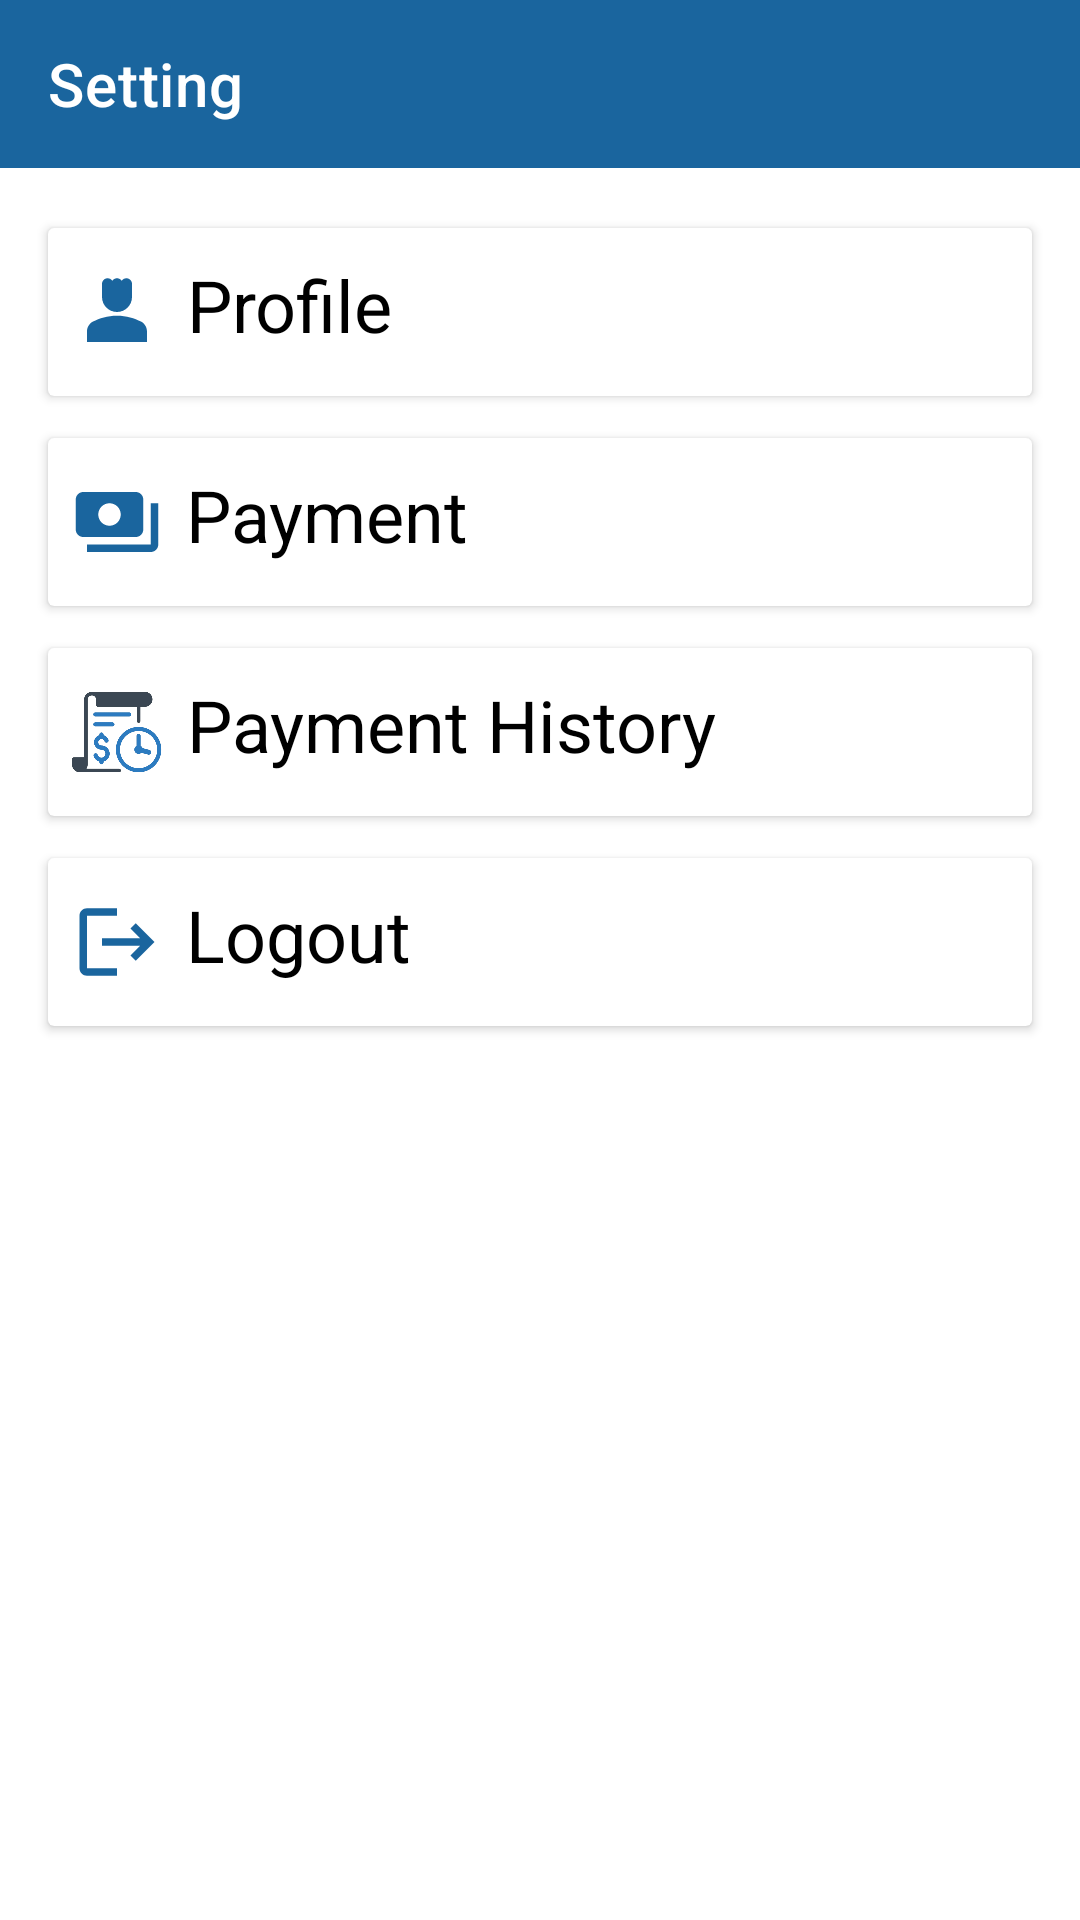

Named icons in this screenshot (1080px x 1920px) and their centers, (x,y):
person: (117,310)
